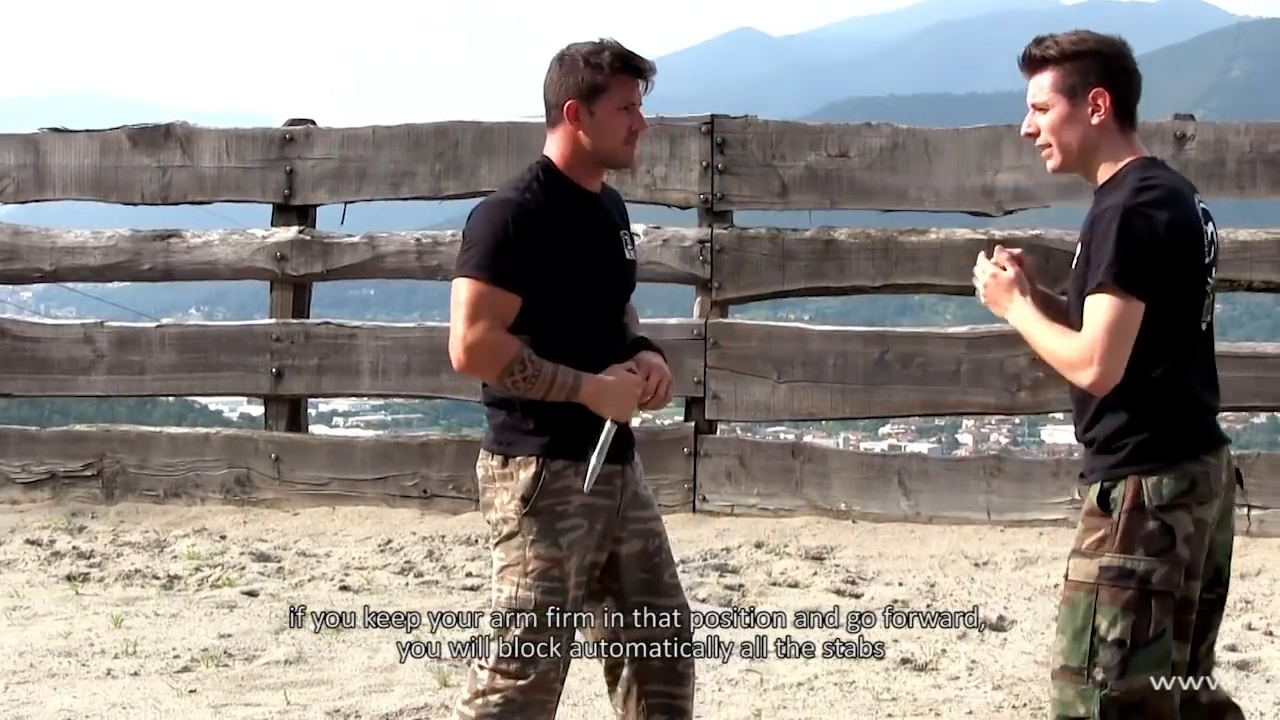knife: (570, 370, 643, 500)
